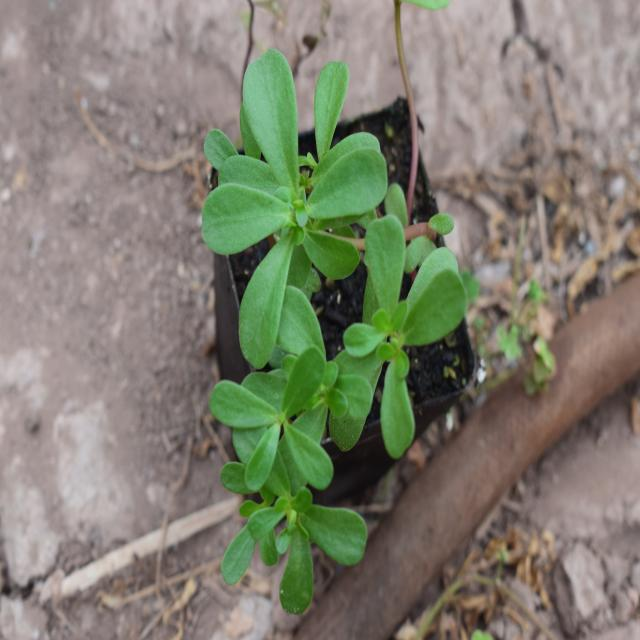purslane: (180, 66, 438, 580)
